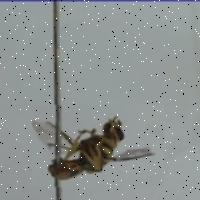Oriental-fruit-fly: (32, 104, 164, 186)
